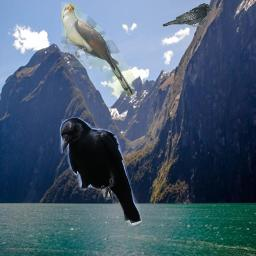Crow: (59, 117, 142, 228), (162, 3, 212, 27)
Cuckoo: (61, 2, 135, 97)
